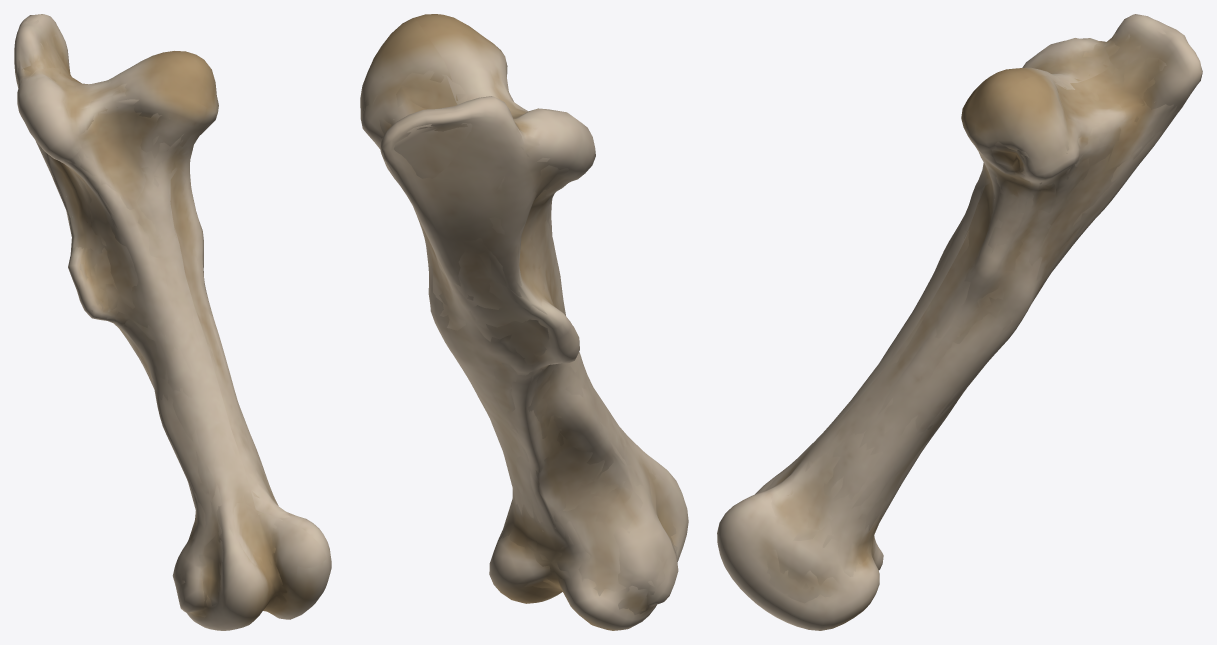
Rendered from R Femur.fbx.
3 views of the same model, side by side, from view 1: azimuth 30°, elevation 25°; view 2: azimuth 150°, elevation 25°; view 3: azimuth 270°, elevation 25° (orthographic). The views are drawn at different scales.
Visible parts, largest first — view 1: R Femur, R Femur low; view 2: R Femur, R Femur low; view 3: R Femur, R Femur low.
Part boxes in pixels (x1,y1,x2,y2): R Femur: (14, 14, 331, 630); R Femur low: (16, 19, 290, 617); R Femur: (360, 14, 688, 630); R Femur low: (363, 66, 679, 614); R Femur: (717, 14, 1202, 630); R Femur low: (763, 23, 1196, 603).
Size of the model in its own units: 13.87 by 39.26 by 31.15.
1 material, 1 textured.
